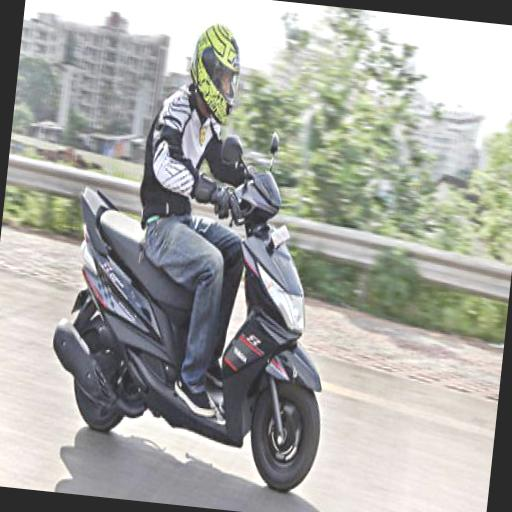helmet: (103, 0, 350, 479)
